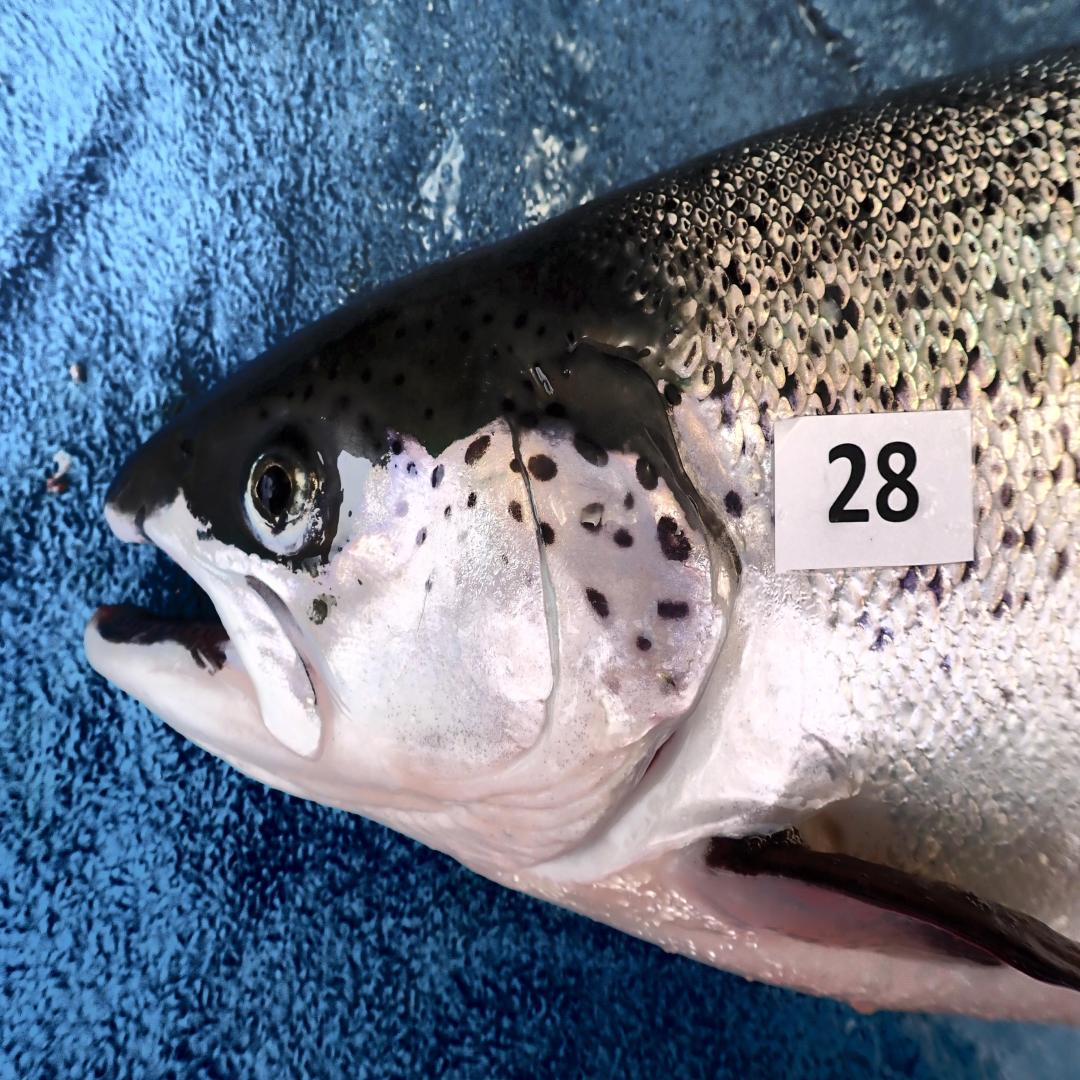spot: (658, 515, 692, 562), (574, 433, 608, 467), (464, 436, 491, 467), (635, 456, 658, 489), (527, 456, 557, 481), (586, 588, 610, 619), (580, 503, 603, 532), (658, 599, 690, 619), (614, 526, 633, 548), (388, 430, 403, 456), (430, 464, 445, 489), (540, 523, 555, 546), (508, 501, 523, 523), (622, 492, 635, 512), (394, 501, 409, 518), (637, 636, 652, 651), (662, 672, 676, 687), (424, 574, 435, 593), (500, 551, 510, 571), (466, 492, 477, 509), (508, 458, 521, 472), (416, 529, 426, 546), (406, 462, 417, 475), (443, 503, 451, 520), (337, 546, 342, 553), (348, 511, 352, 517), (358, 579, 362, 585)
